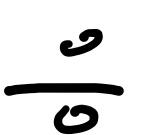div: (5, 29, 126, 134)
